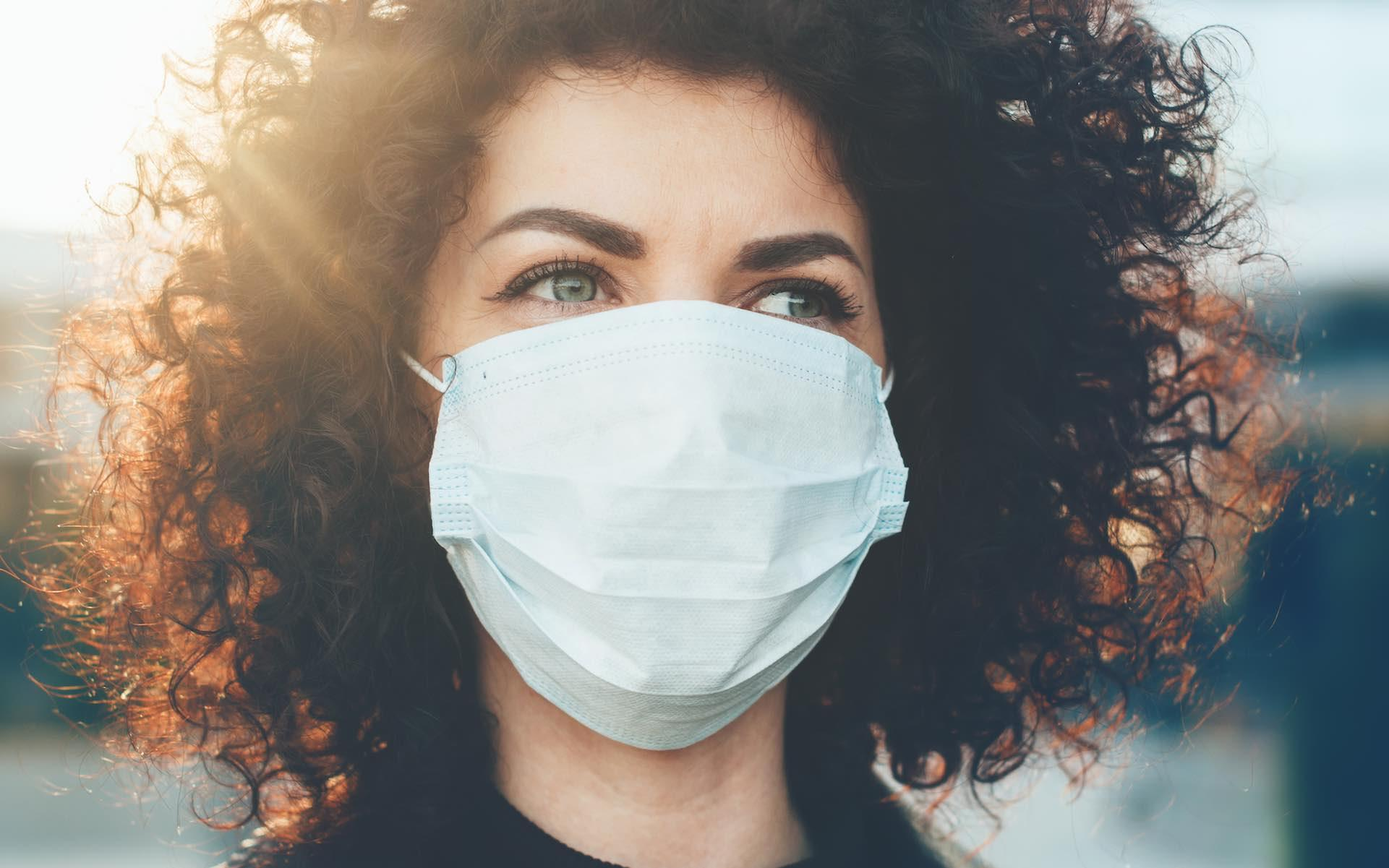Wearing Mask: (355, 0, 951, 797)
